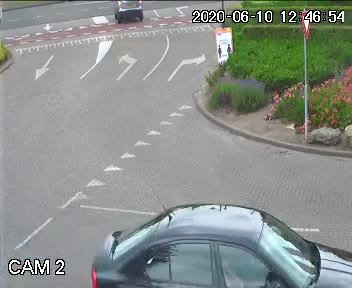car: (81, 193, 352, 288)
